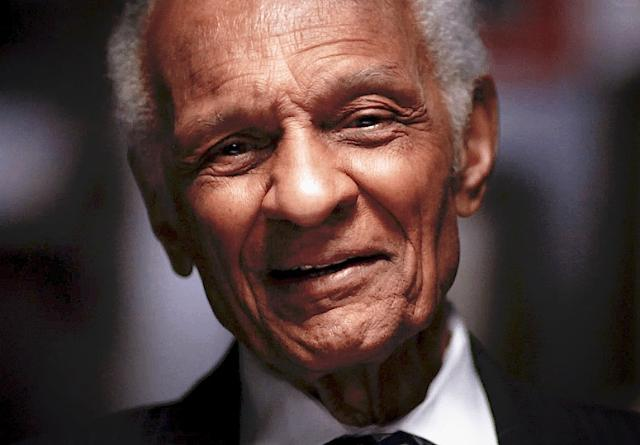chin: (306, 300, 352, 322)
crows_feet: (400, 103, 430, 135), (195, 164, 223, 184)
forehead: (306, 30, 366, 56), (207, 68, 256, 92)
frown_line: (275, 94, 309, 122)
gummy_smile: (359, 181, 409, 229), (238, 201, 262, 259)
masseter: (404, 265, 431, 311), (240, 281, 266, 323)
